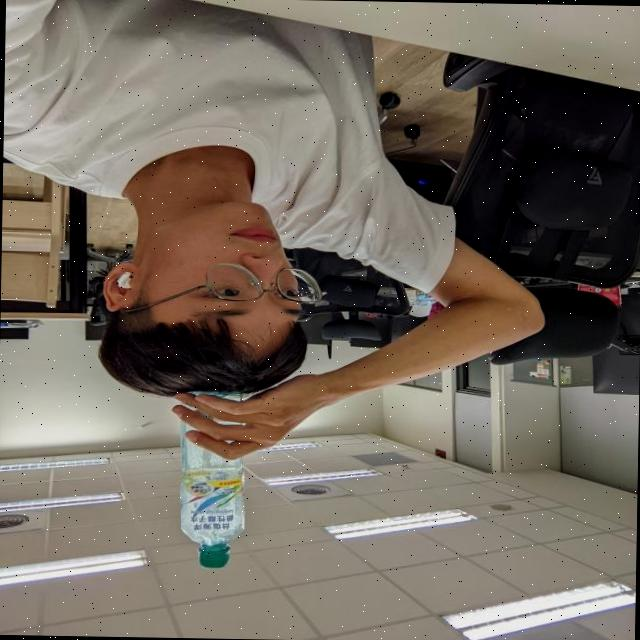bottle: (162, 388, 255, 576)
cap: (196, 543, 231, 570)
label: (170, 462, 247, 540)
